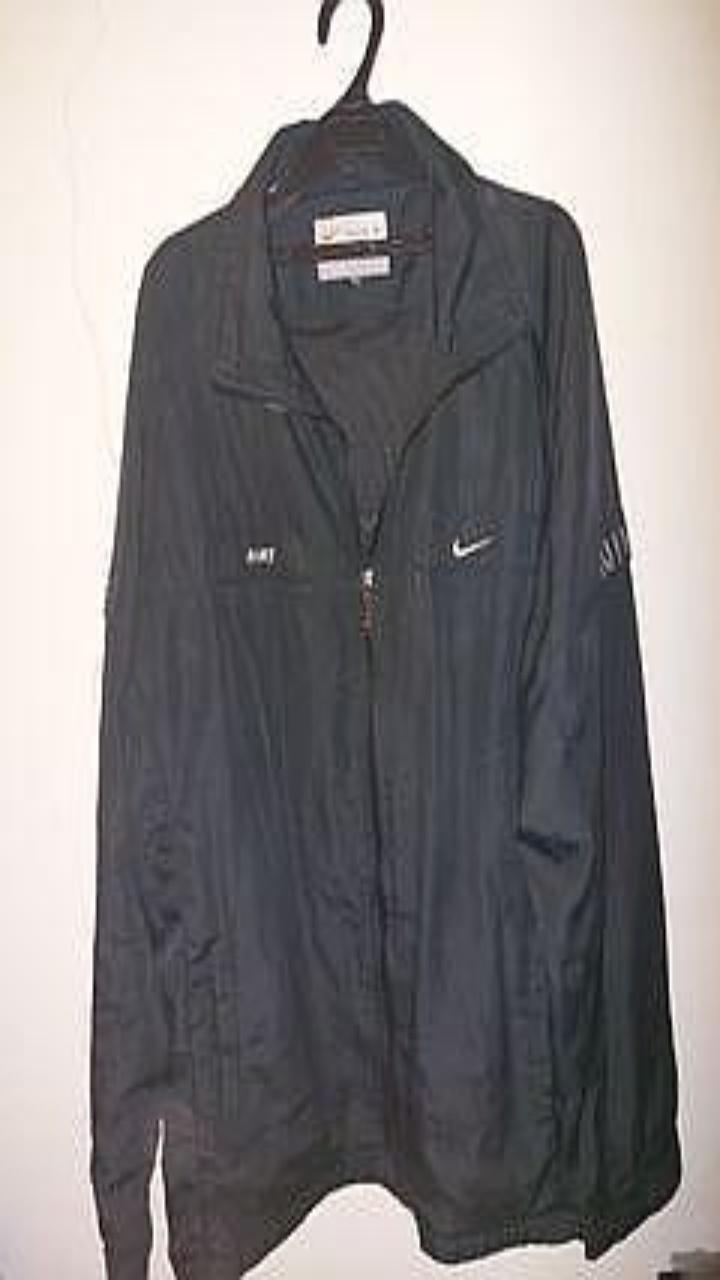Sports_Jacket: (91, 100, 680, 1279)
